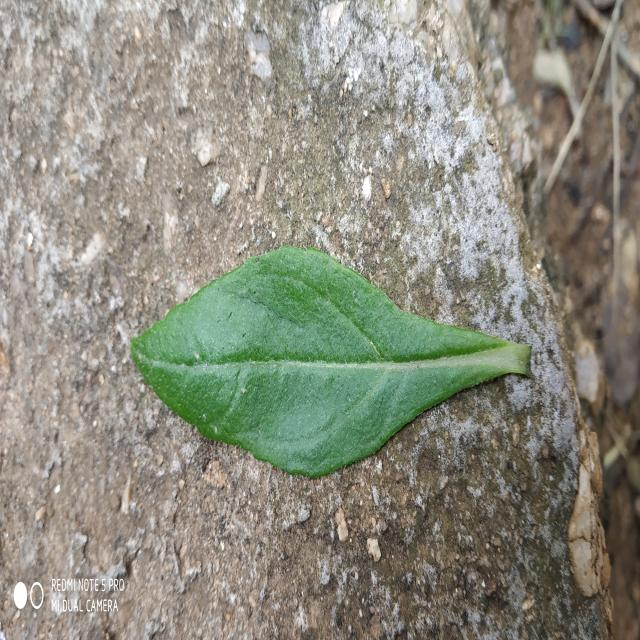bringaraja: (131, 248, 531, 478)
